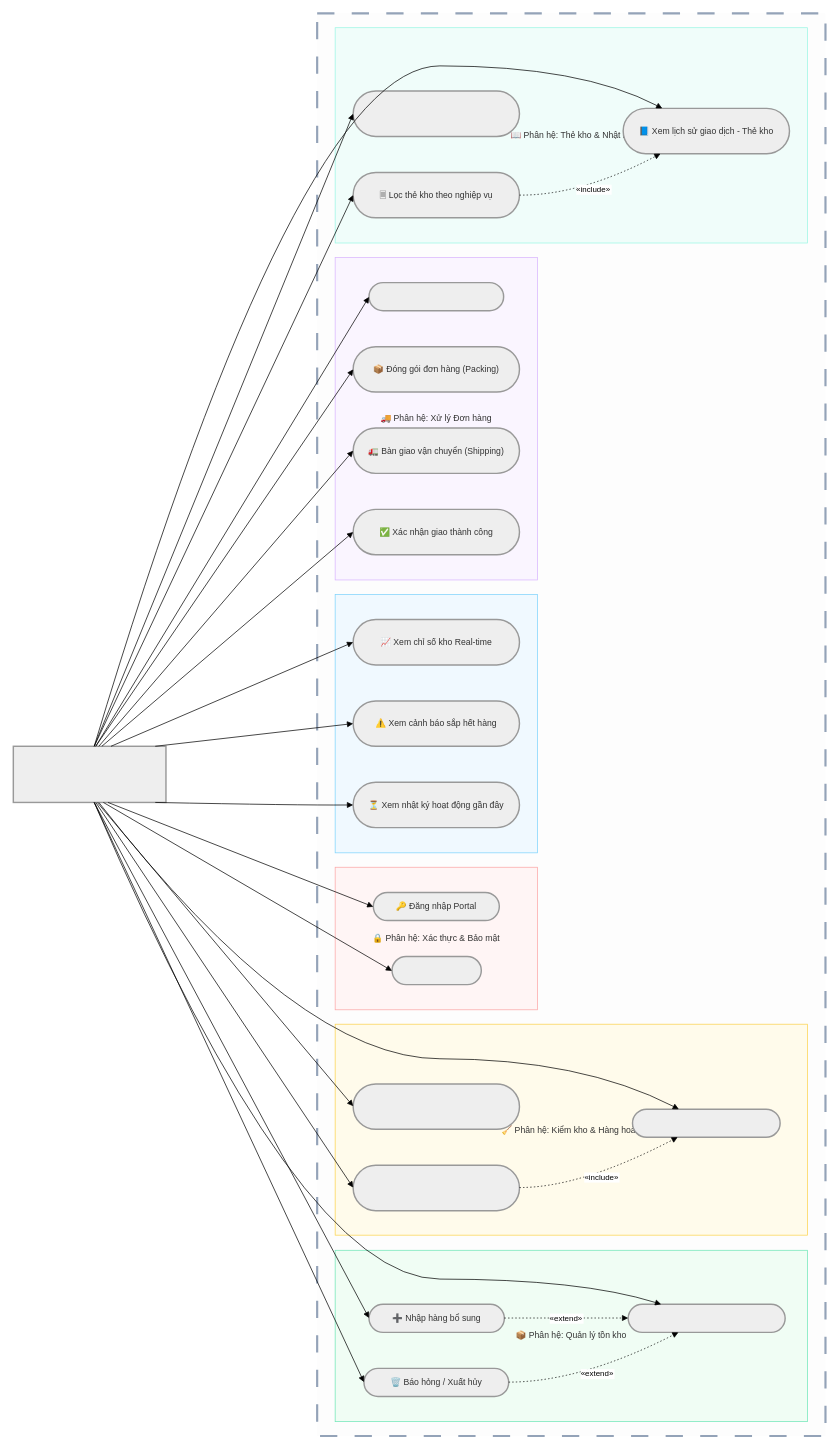
Image size: 839x1449. Some labels were removed from this diagram. The centre of each missing label's shape, as x and y in pixels:
👤 THỦ KHO (Warehouse Keeper): pixel 89 774
📋 Xem danh mục tồn kho: pixel 706 1318
📜 Xem lịch sử kiểm kho: pixel 705 1123
📝 Kiểm kê & Điều chỉnh thực tế: pixel 436 1187
📝 Xem nhật ký hoạt động kho: pixel 436 113
🔄 Xử lý đơn hàng hoàn trả: pixel 436 1106
🔍 Xem đơn chờ xử lý: pixel 436 296
🚪 Đăng xuất: pixel 436 970
